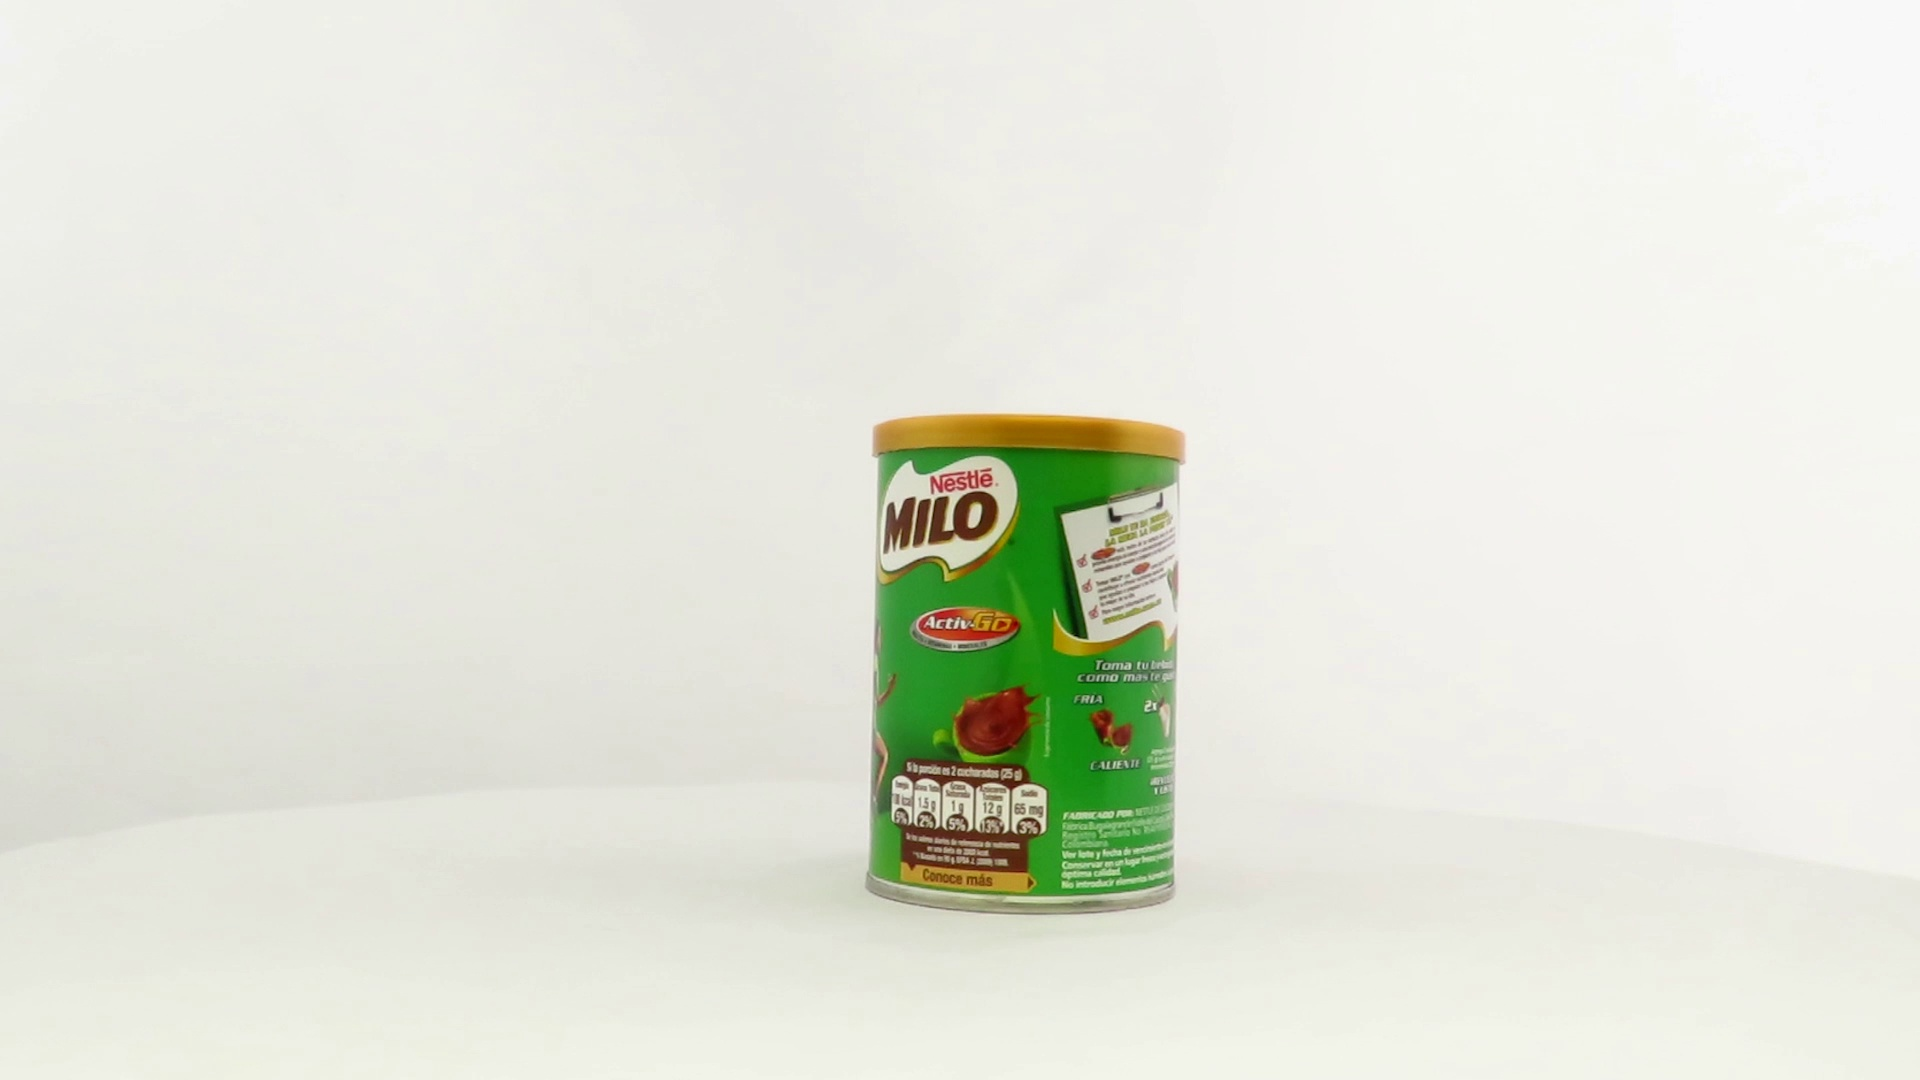COL0170203LAT20000: (860, 407, 1192, 920)
